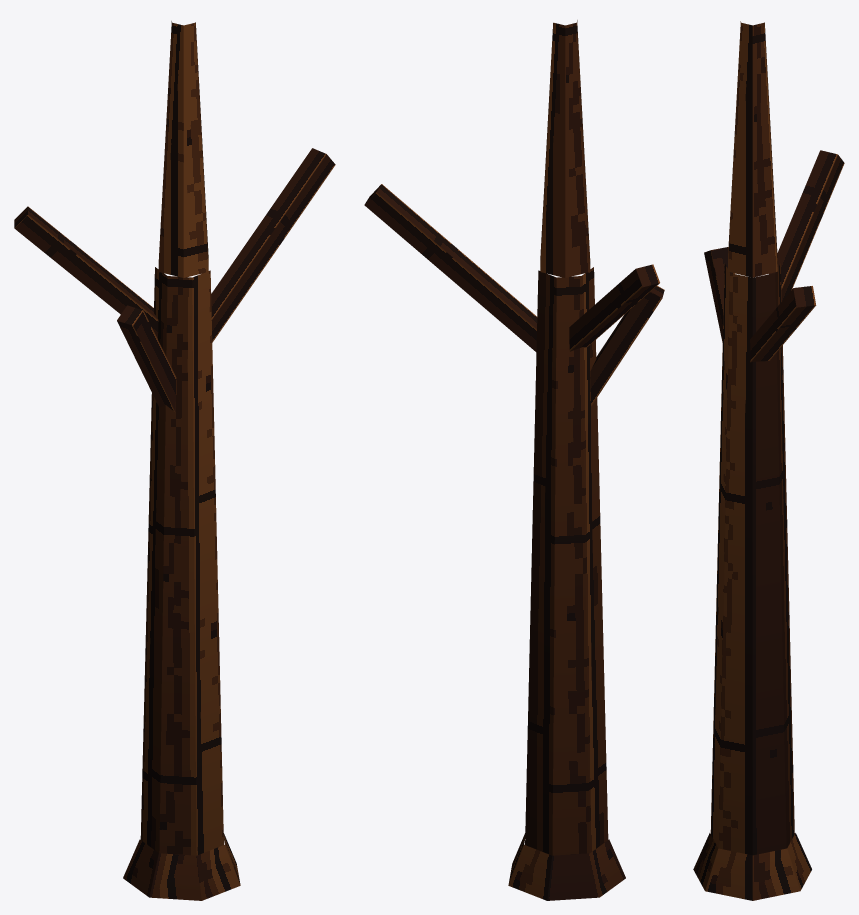
Rendered from birch_3_trunk.glb.
3 renders of one model, left to right at view 1: azimuth 30°, elevation 25°; view 2: azimuth 150°, elevation 25°; view 3: azimuth 270°, elevation 25°, orthographic.
Parts seen in each view (by area): view 1: birch_3_trunk; view 2: birch_3_trunk; view 3: birch_3_trunk.
Part boxes in pixels (bbox=[...]): birch_3_trunk: bbox=[14, 21, 335, 900]; birch_3_trunk: bbox=[364, 20, 664, 900]; birch_3_trunk: bbox=[693, 21, 844, 900].
Size of the model in its own units: 2.08 by 5.57 by 0.8931.
1 material, 1 textured.
